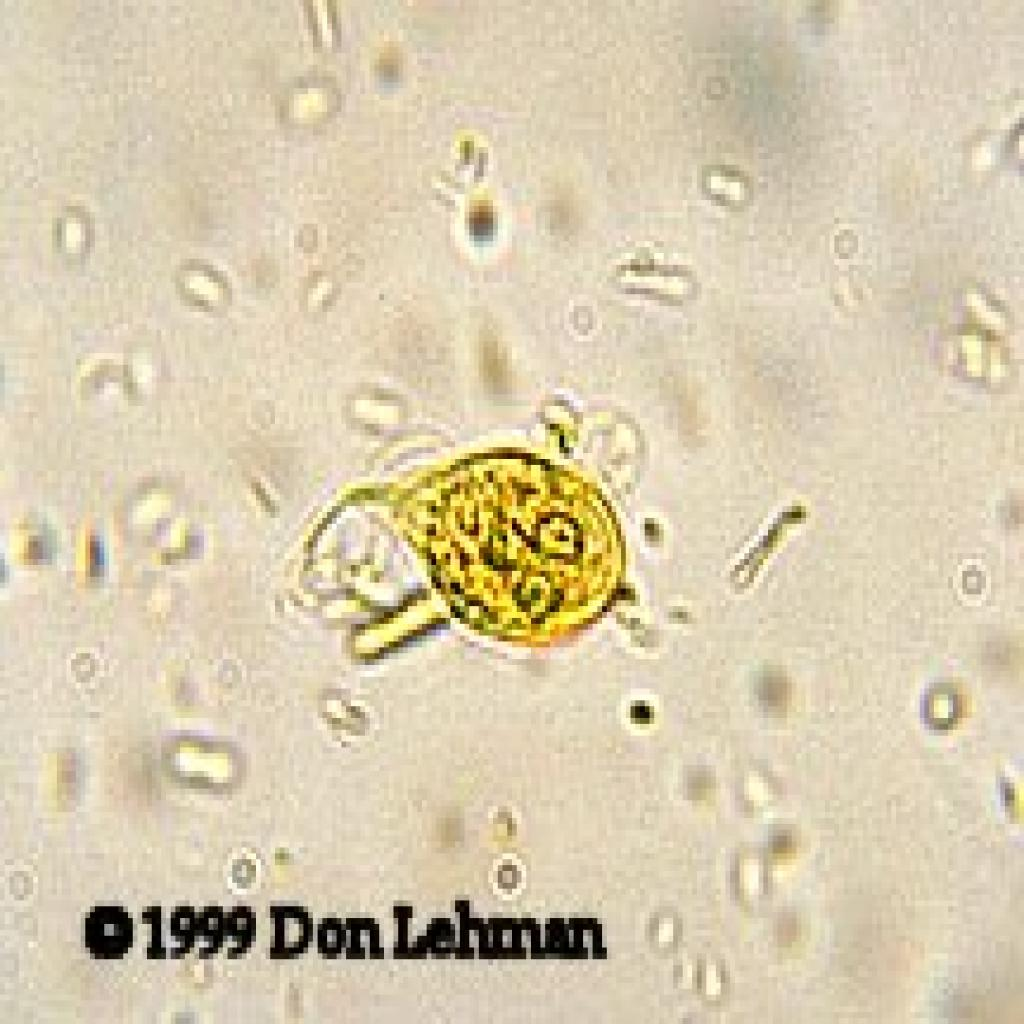Giardia: (313, 436, 630, 653)
